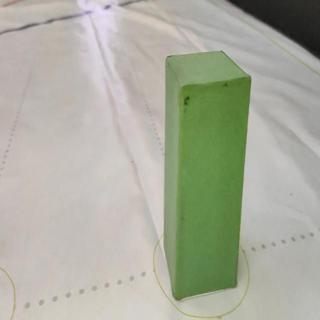greenbox: (161, 49, 253, 299)
